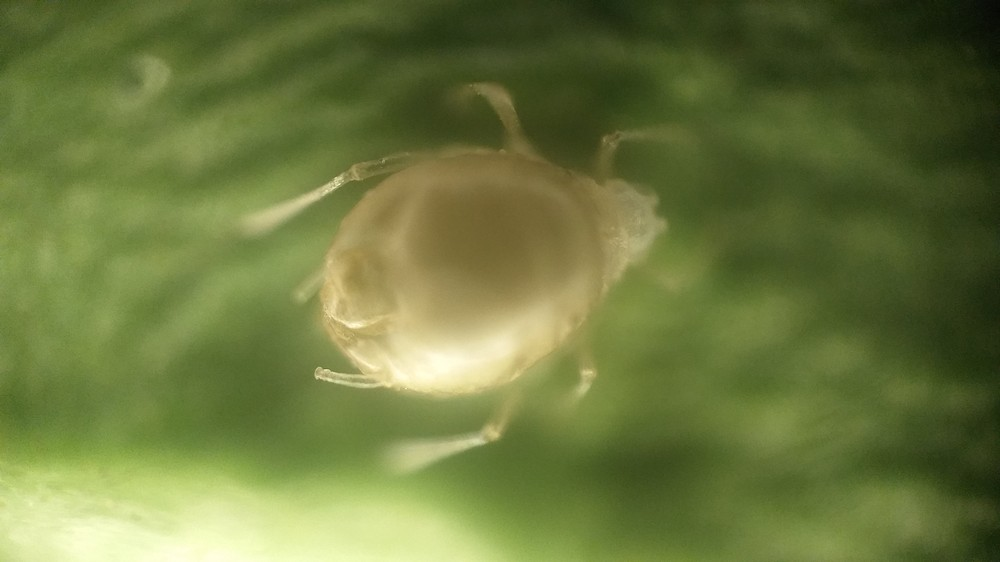Pulgon: (227, 71, 748, 495)
